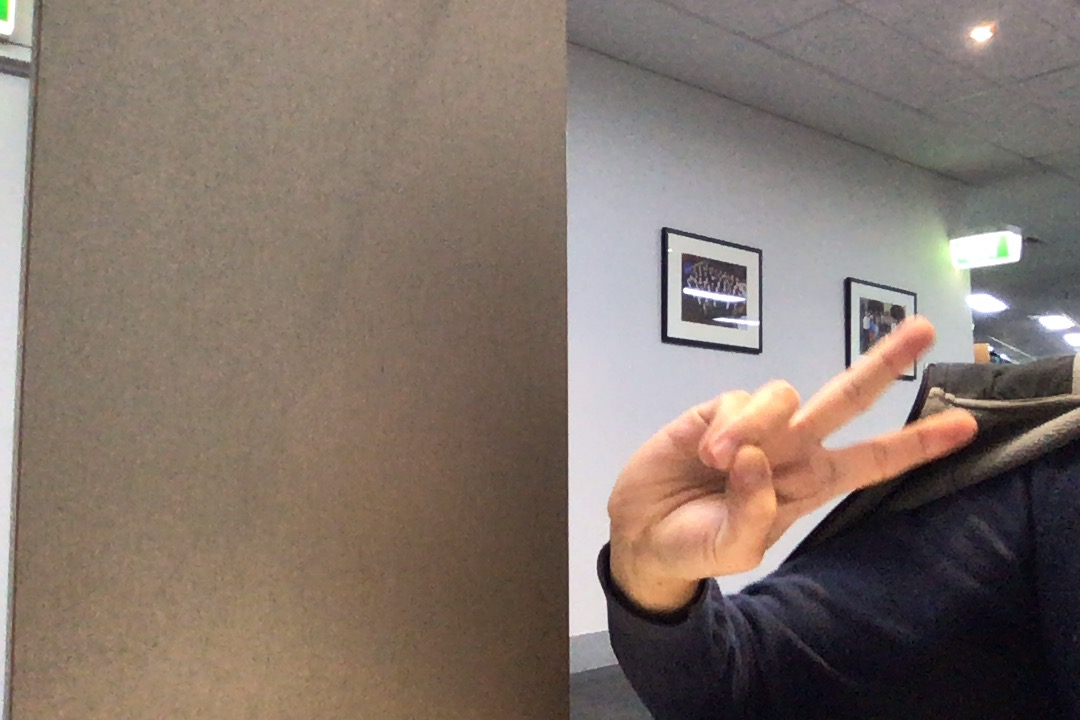peacesign: (592, 307, 992, 587)
